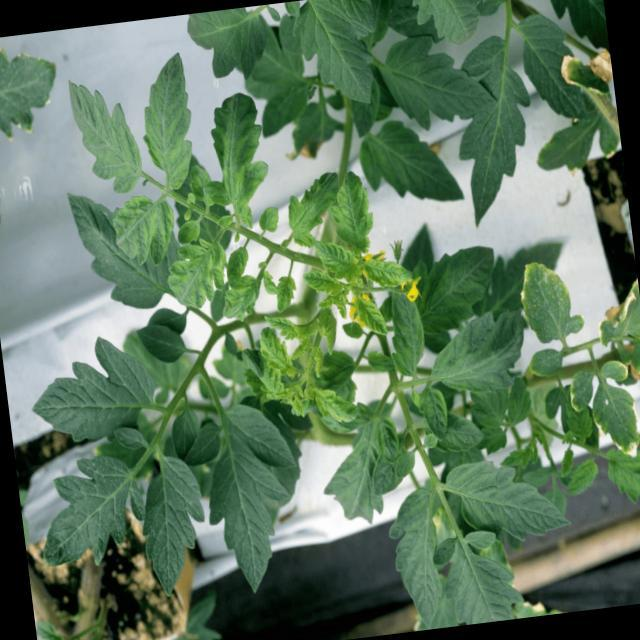Tomato healthy leaf: (194, 394, 312, 600), (444, 31, 546, 232), (21, 328, 162, 452), (66, 178, 189, 320), (32, 448, 150, 573), (377, 24, 500, 138), (133, 449, 215, 601), (354, 112, 465, 215), (286, 0, 386, 114), (514, 9, 589, 130), (185, 5, 272, 89), (409, 0, 488, 52), (544, 0, 609, 63), (136, 319, 187, 366), (178, 418, 224, 468), (168, 404, 205, 460)
Tomato yellow virus leaf: (440, 448, 576, 550), (190, 88, 276, 229), (378, 488, 451, 634), (423, 304, 532, 401), (66, 70, 146, 199), (313, 418, 402, 532), (130, 50, 200, 194), (428, 526, 526, 628), (411, 240, 504, 336), (108, 190, 181, 270), (162, 234, 232, 314), (282, 170, 346, 252), (382, 282, 432, 379), (326, 167, 378, 260), (262, 304, 319, 352), (602, 440, 640, 510), (314, 236, 362, 288), (218, 274, 264, 324), (414, 384, 452, 444), (315, 382, 360, 426), (363, 252, 415, 290), (563, 453, 603, 499), (257, 324, 291, 378), (352, 292, 389, 341), (302, 267, 344, 300), (271, 271, 301, 313), (224, 244, 252, 284)
